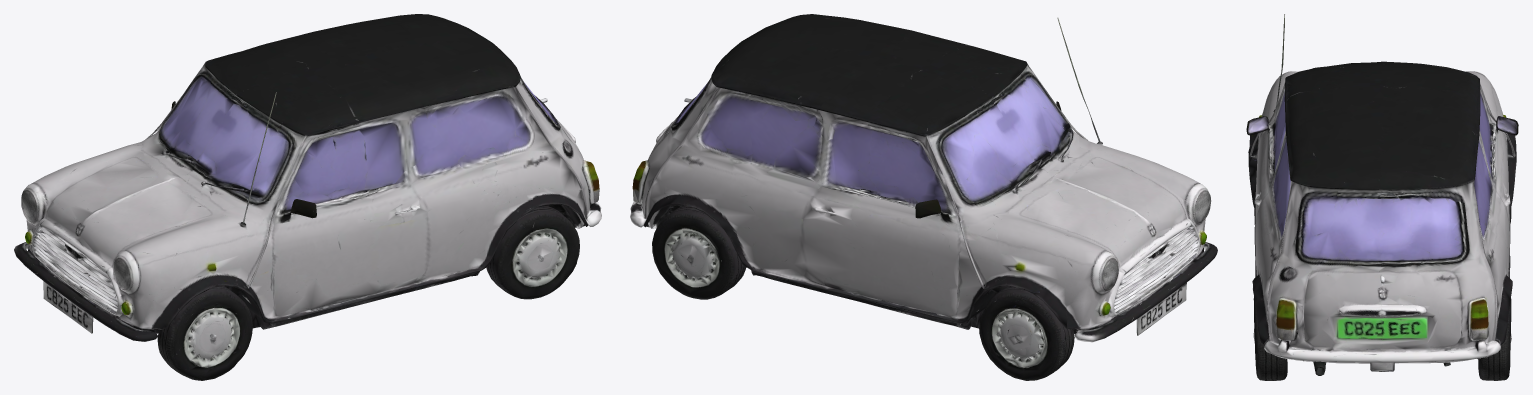
The model's file is mini-SHRINK.glb.
3 renders of one model, left to right at view 1: azimuth 30°, elevation 25°; view 2: azimuth 150°, elevation 25°; view 3: azimuth 270°, elevation 25°, orthographic. The views are drawn at different scales.
Size of the model in its own units: 1.9 by 0.9533 by 0.9498.
Materials: 1 (1 with a texture image).
